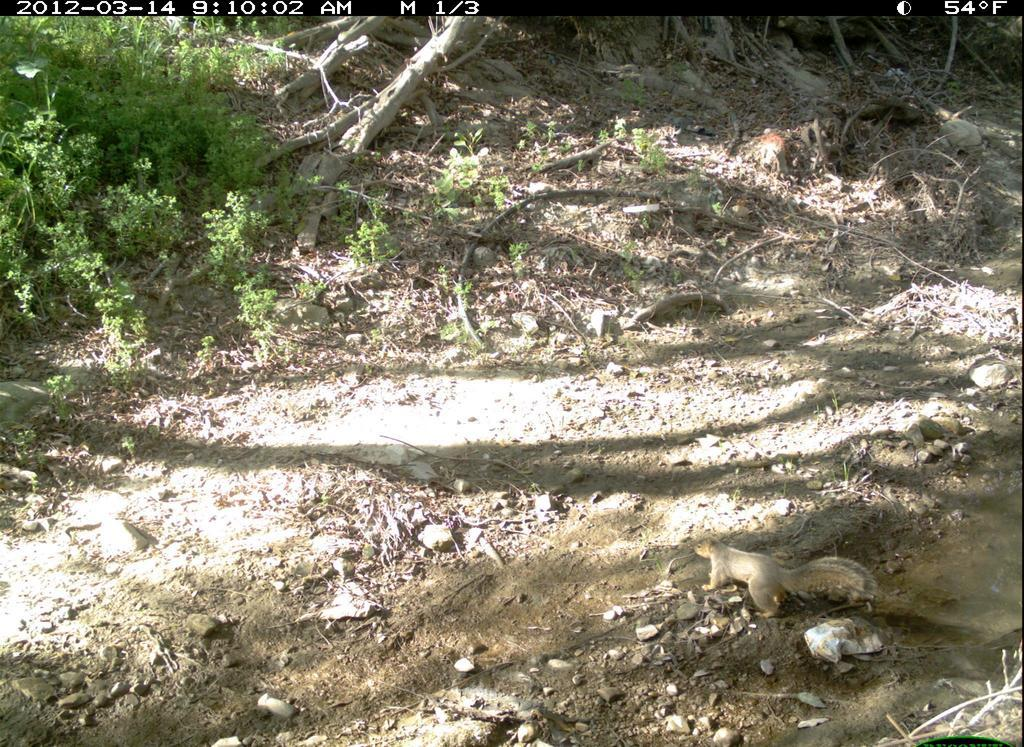squirrel: (690, 533, 880, 629)
